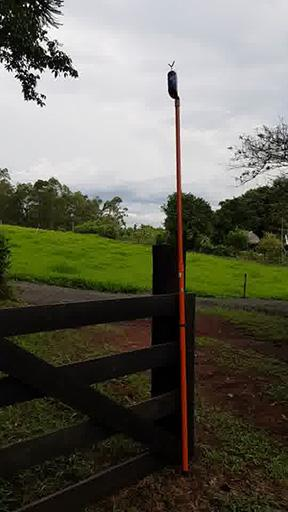Detector_Tensao_Contato: (167, 60, 178, 101)
Vara_Manobra: (172, 100, 189, 472)
